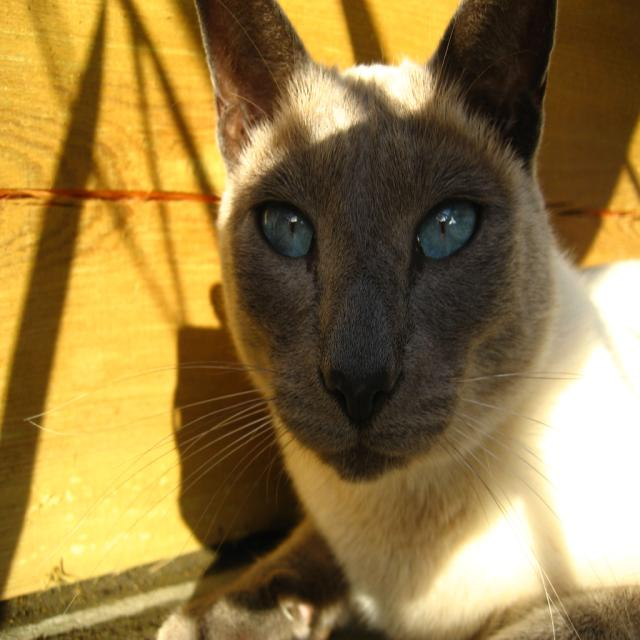cat: (24, 1, 639, 639)
